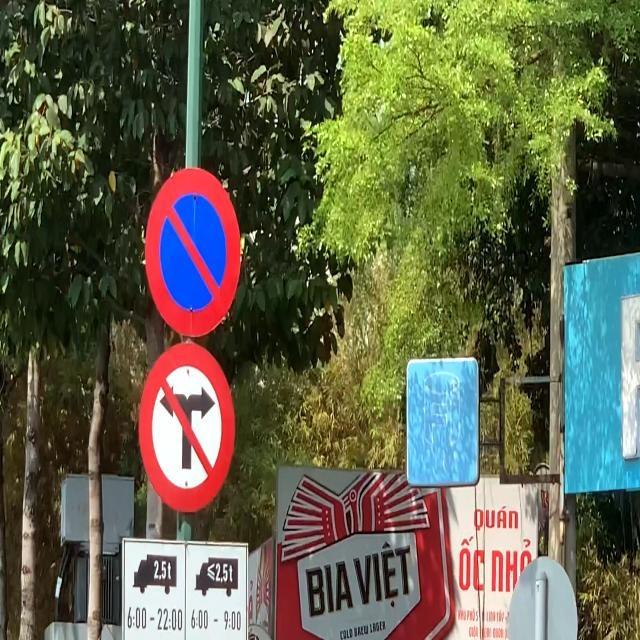bien_cam: (133, 342, 238, 522), (143, 168, 245, 340)
